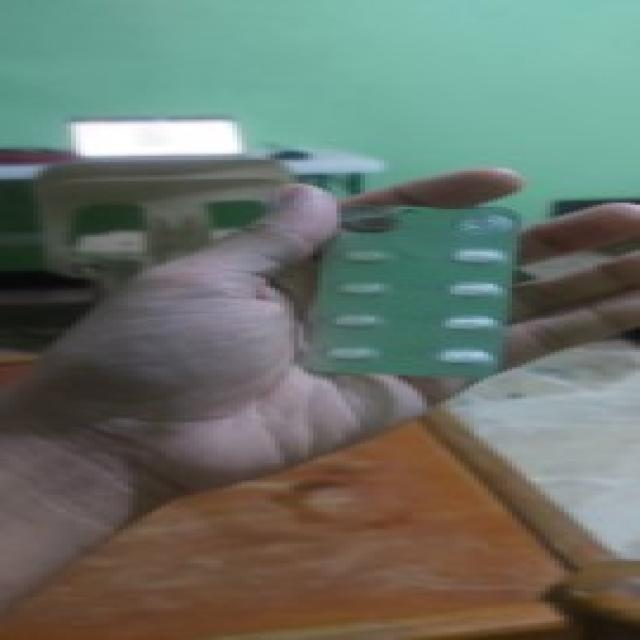Cacat: (293, 204, 519, 377)
Kemasan: (333, 211, 415, 239)
